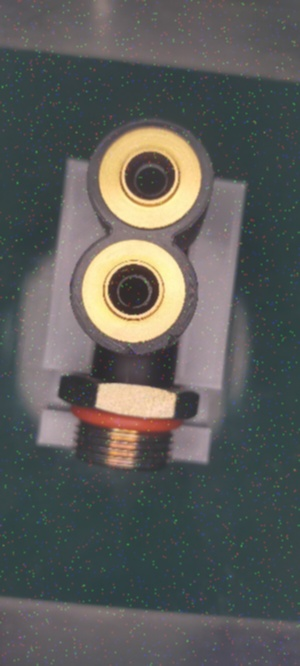bump: (114, 342, 142, 362), (164, 332, 187, 352)
white mark: (122, 370, 134, 389)
